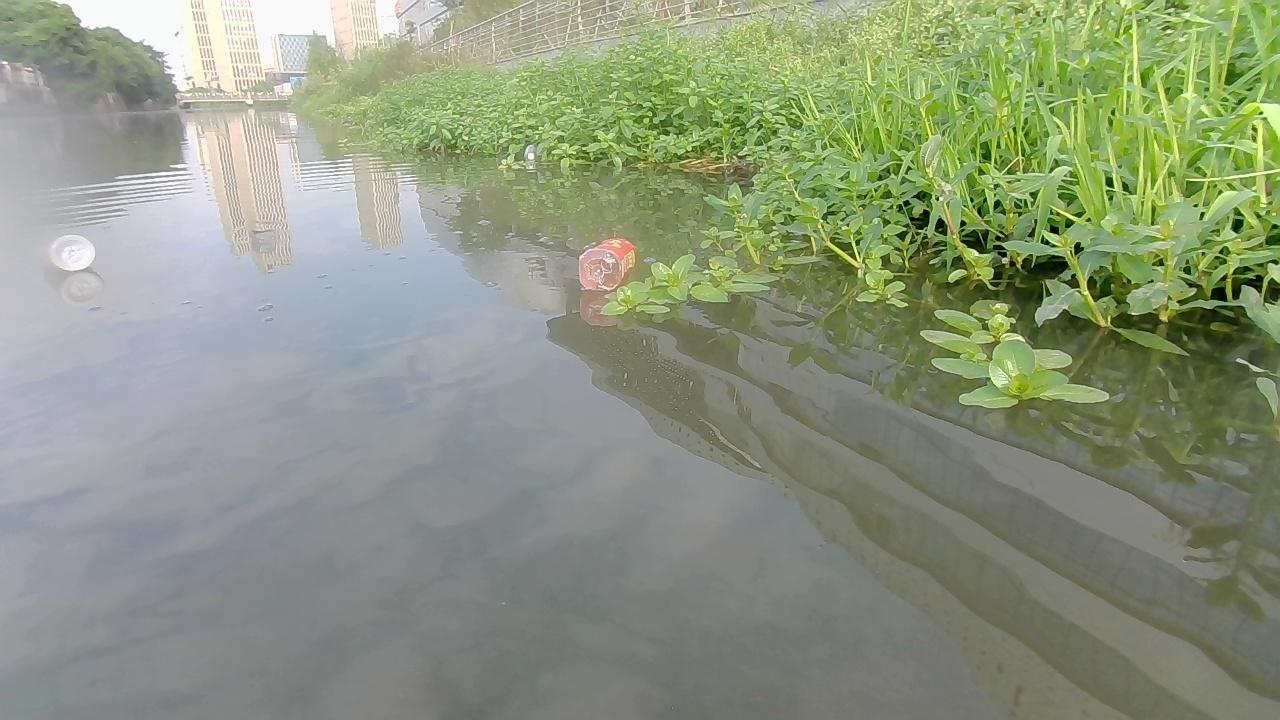bottle: (573, 237, 636, 292), (46, 232, 95, 277), (521, 138, 538, 162)
